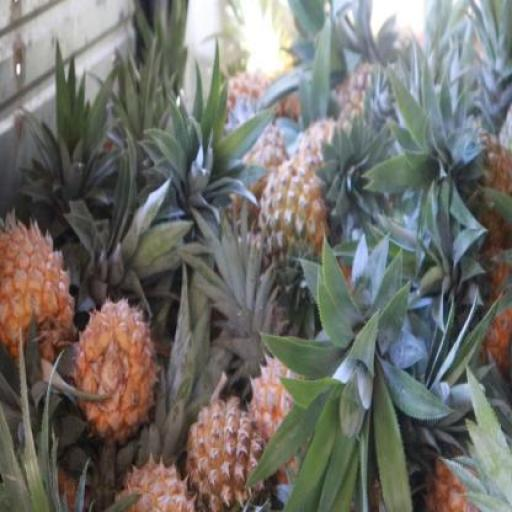Pineapple - v8 v1: (0, 220, 79, 366), (74, 304, 152, 438), (188, 399, 267, 512)
